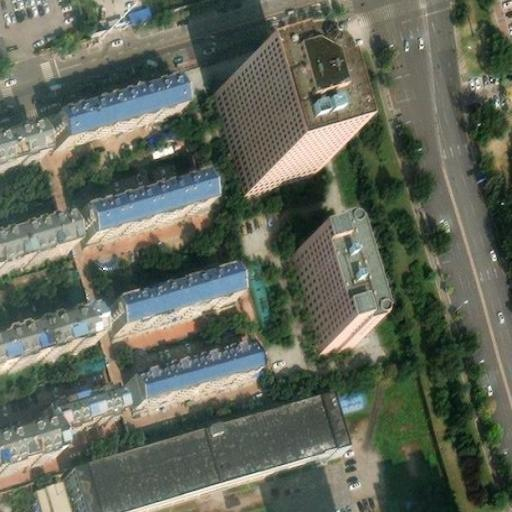building: (65, 391, 342, 512), (218, 71, 316, 188), (0, 386, 124, 468), (81, 170, 215, 236), (111, 266, 242, 331), (51, 78, 181, 142), (129, 344, 258, 407), (293, 237, 358, 348), (0, 307, 102, 367), (0, 223, 81, 277), (0, 125, 47, 167), (33, 477, 70, 512), (325, 381, 366, 410), (125, 2, 153, 27)
